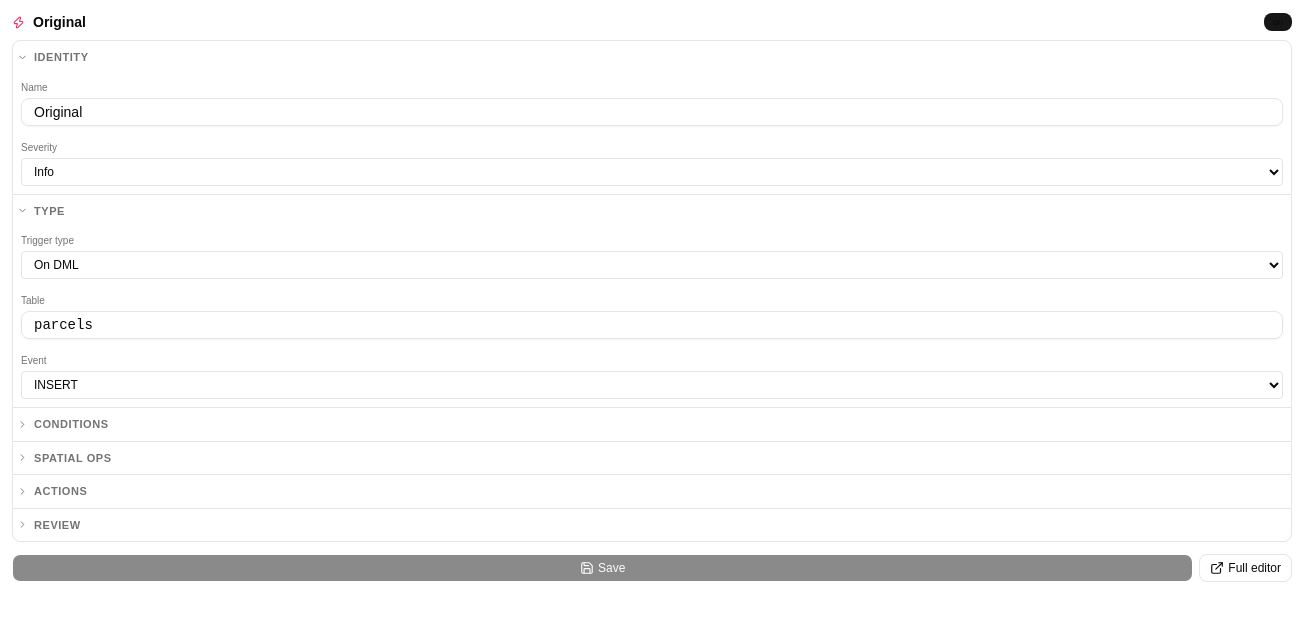
Test: TriggerBuilderInline › shows 'Unsaved changes' once the Name is edited
The width and height of the screenshot is (1304, 632).
Step 1. Replace the text in the field with placeholder "Trigger name" below "Name" with "Edited" → (652, 112), box [21, 98, 1283, 126]
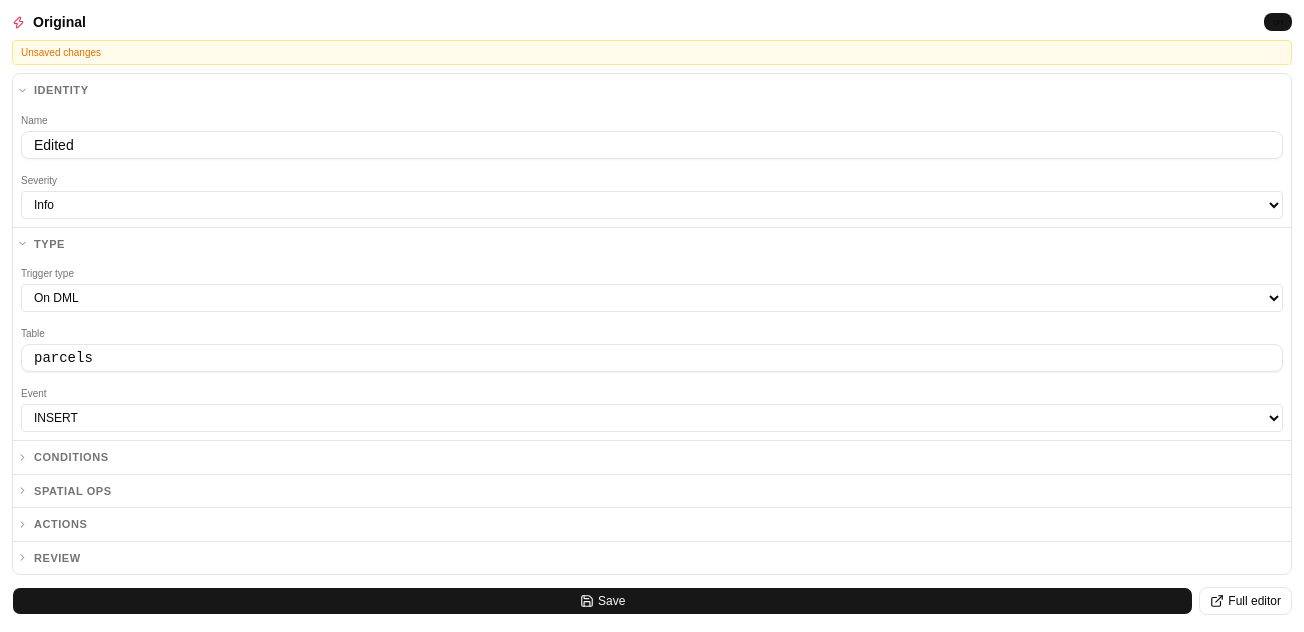
expect the text "Unsaved changes" is shown: met, box [12, 40, 1292, 65]
